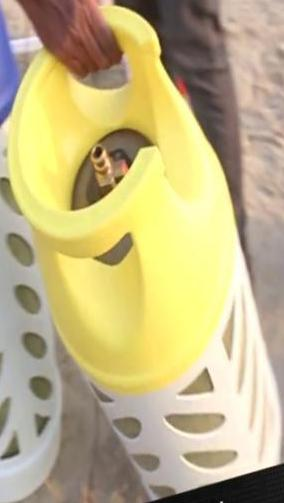cylinder: (1, 0, 284, 503)
